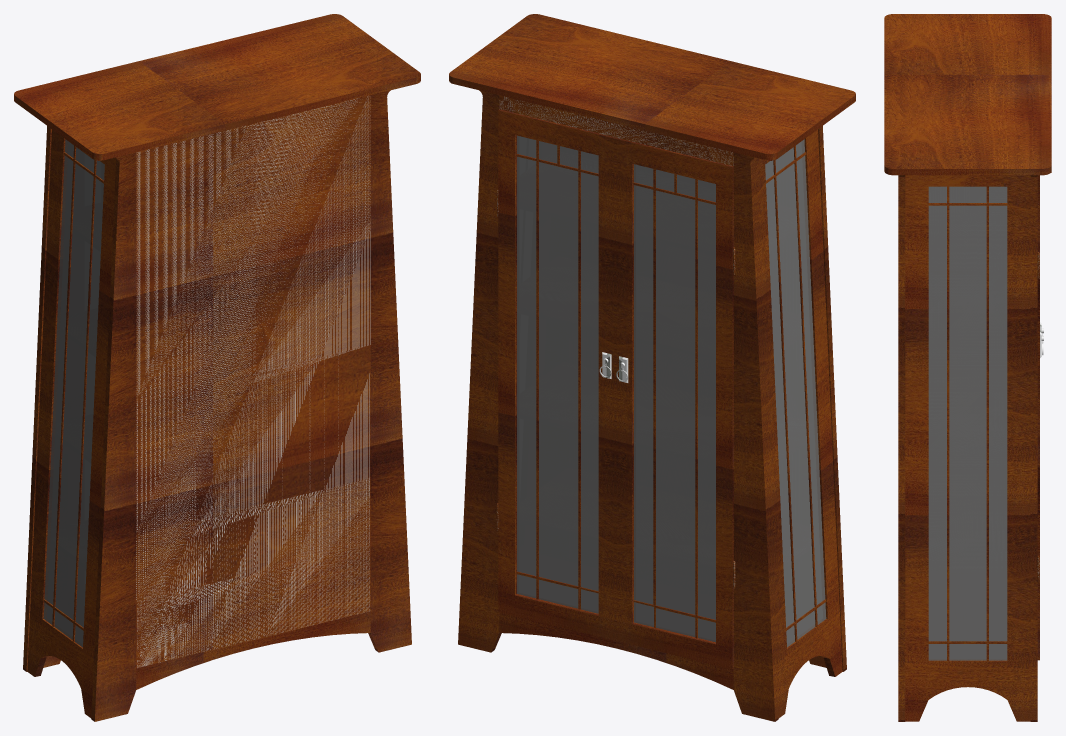
3 renders of one model, left to right at view 1: azimuth 30°, elevation 25°; view 2: azimuth 150°, elevation 25°; view 3: azimuth 270°, elevation 25°, orthographic. The views are drawn at different scales.
Visible parts, largest first — view 1: mesh42_mesh42-geometry, mesh5_mesh5-geometry, mesh11_mesh11-geometry, mesh1_mesh1-geometry, mesh3_mesh3-geometry, mesh13_mesh13-geometry; view 2: mesh23_mesh23-geometry, mesh37_mesh37-geometry, mesh5_mesh5-geometry, mesh11_mesh11-geometry, mesh1_mesh1-geometry, mesh3_mesh3-geometry, mesh43_mesh43-geometry, mesh13_mesh13-geometry; view 3: mesh8_mesh8-geometry, mesh11_mesh11-geometry, mesh3_mesh3-geometry, mesh37_mesh37-geometry.
Part boxes in pixels (left/top/right/bottom): mesh42_mesh42-geometry: left=136, top=95, right=370, bottom=668; mesh5_mesh5-geometry: left=27, top=129, right=115, bottom=718; mesh11_mesh11-geometry: left=14, top=14, right=420, bottom=160; mesh1_mesh1-geometry: left=23, top=126, right=136, bottom=721; mesh3_mesh3-geometry: left=368, top=90, right=411, bottom=652; mesh13_mesh13-geometry: left=136, top=611, right=370, bottom=689; mesh23_mesh23-geometry: left=615, top=138, right=733, bottom=669; mesh37_mesh37-geometry: left=498, top=109, right=615, bottom=640; mesh5_mesh5-geometry: left=754, top=129, right=842, bottom=718; mesh11_mesh11-geometry: left=449, top=14, right=855, bottom=160; mesh1_mesh1-geometry: left=733, top=126, right=846, bottom=721; mesh3_mesh3-geometry: left=458, top=90, right=501, bottom=652; mesh43_mesh43-geometry: left=499, top=95, right=733, bottom=166; mesh13_mesh13-geometry: left=499, top=612, right=733, bottom=689; mesh8_mesh8-geometry: left=905, top=175, right=1030, bottom=721; mesh11_mesh11-geometry: left=884, top=14, right=1051, bottom=175; mesh3_mesh3-geometry: left=898, top=175, right=1037, bottom=721; mesh37_mesh37-geometry: left=1037, top=175, right=1039, bottom=660.
Bounding box in the file's own units: 0.4998 × 0.8357 × 0.2277.
